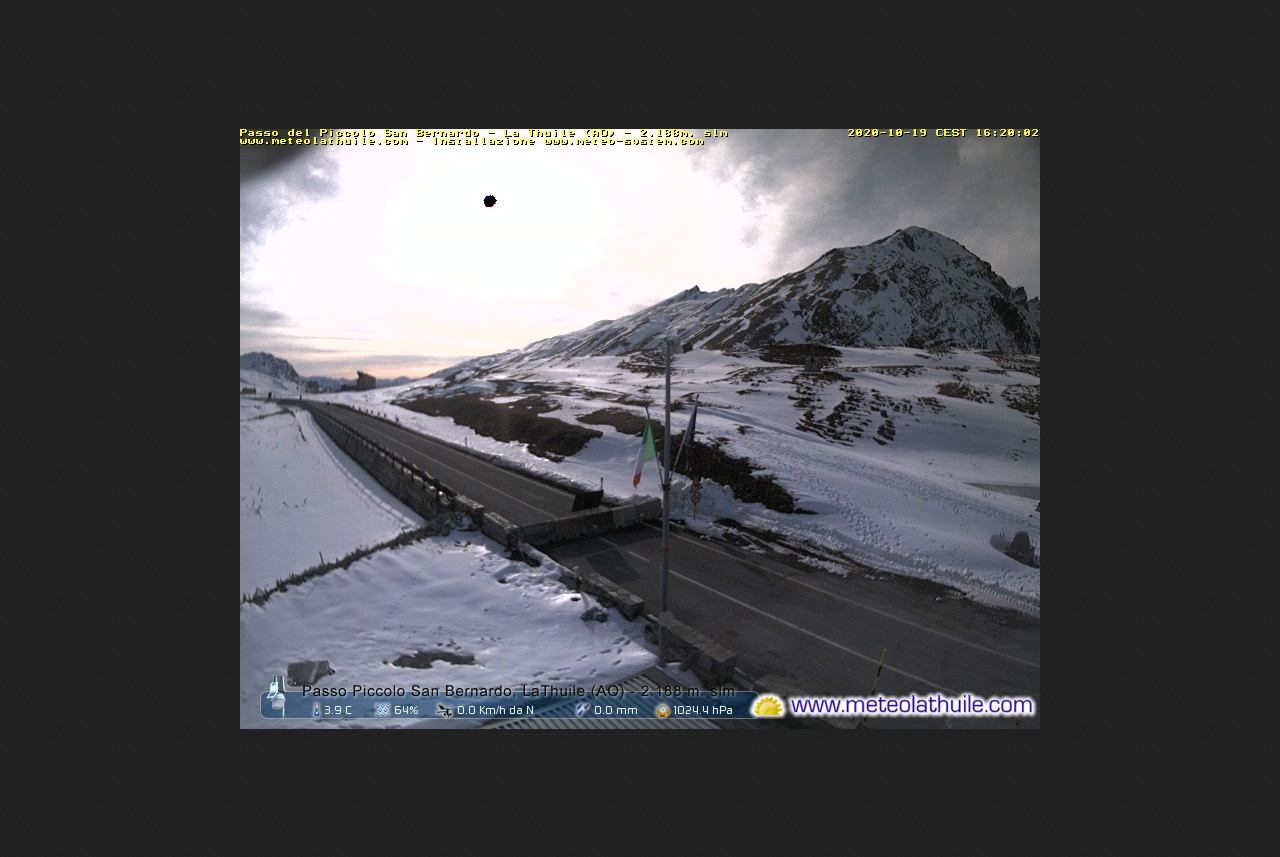no: (630, 413, 658, 491), (682, 394, 704, 480)
